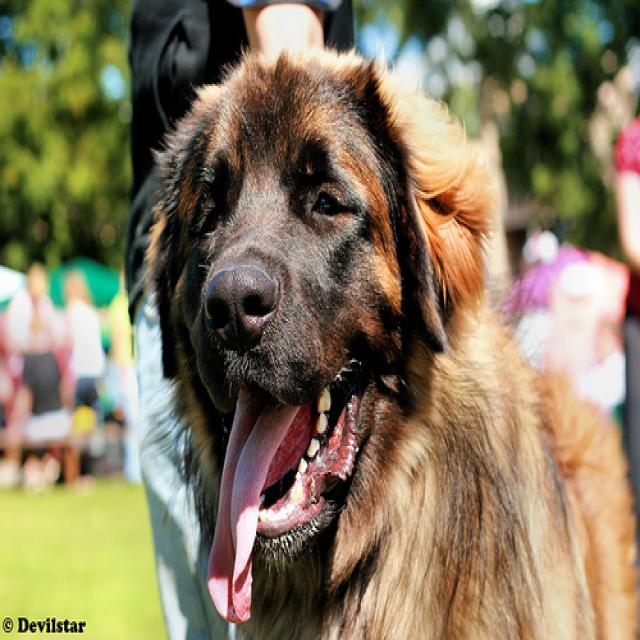dog: (155, 43, 484, 621)
